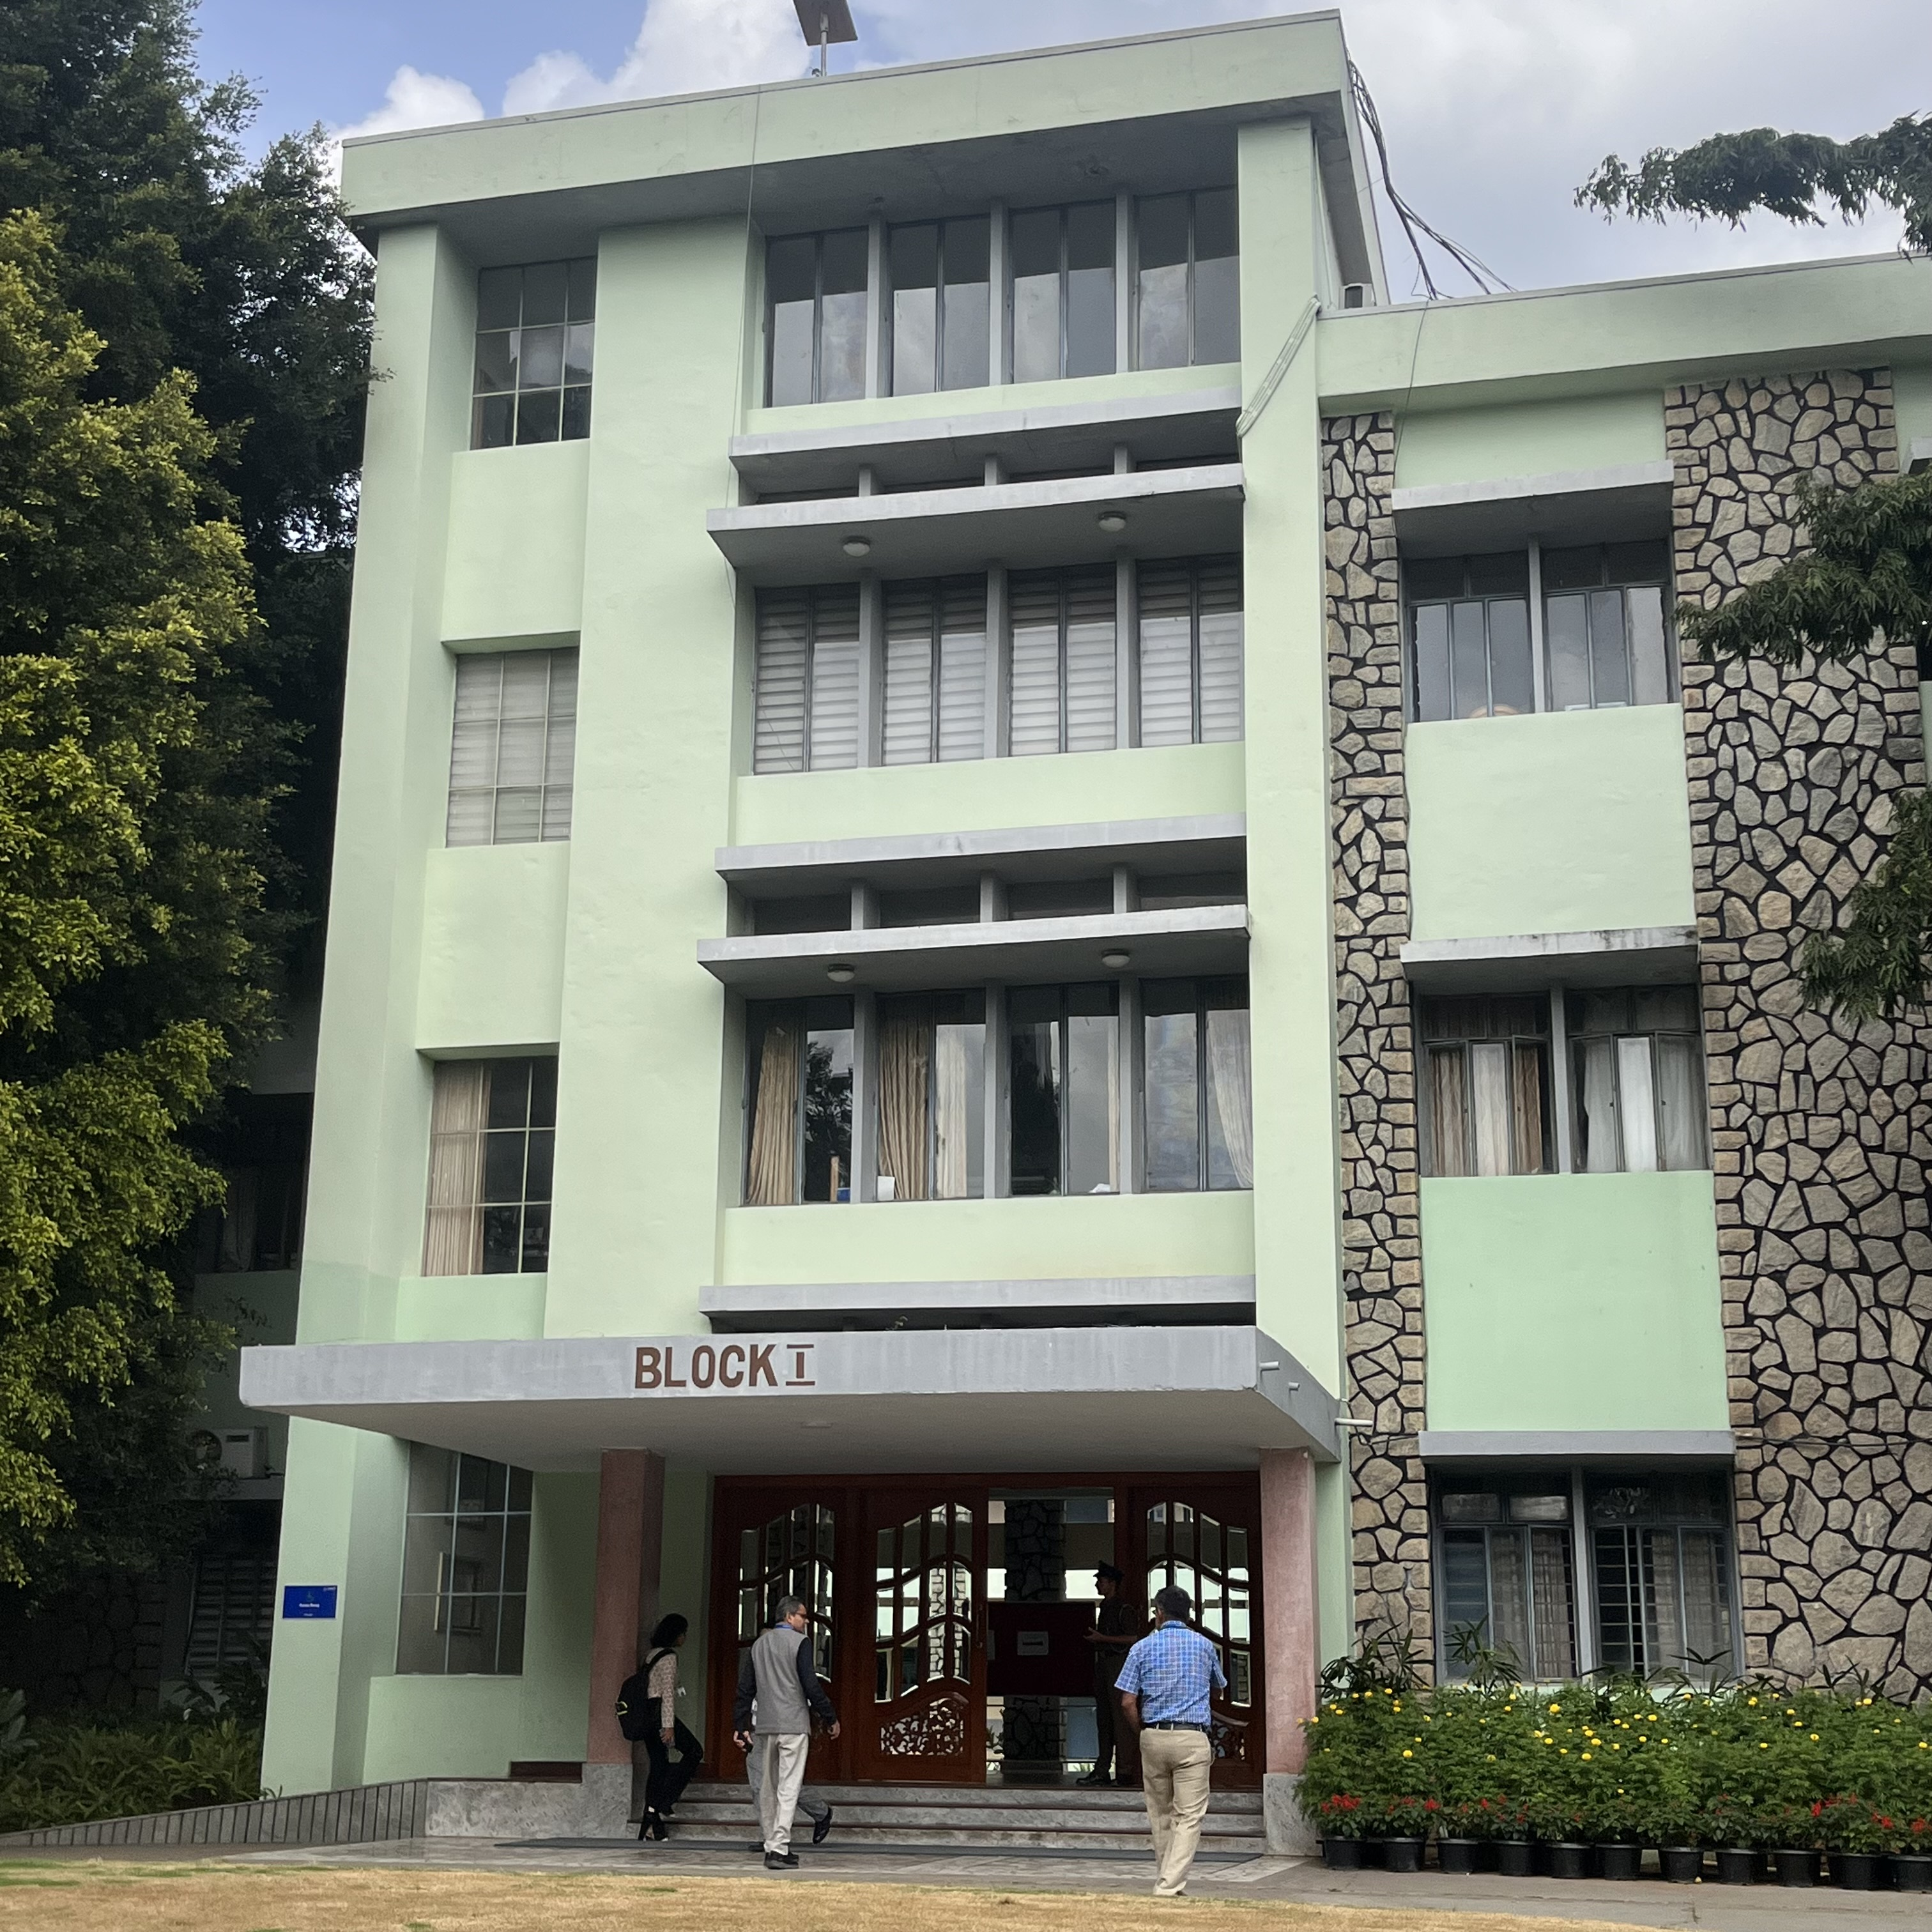Block 1: (322, 71, 1897, 1755)
